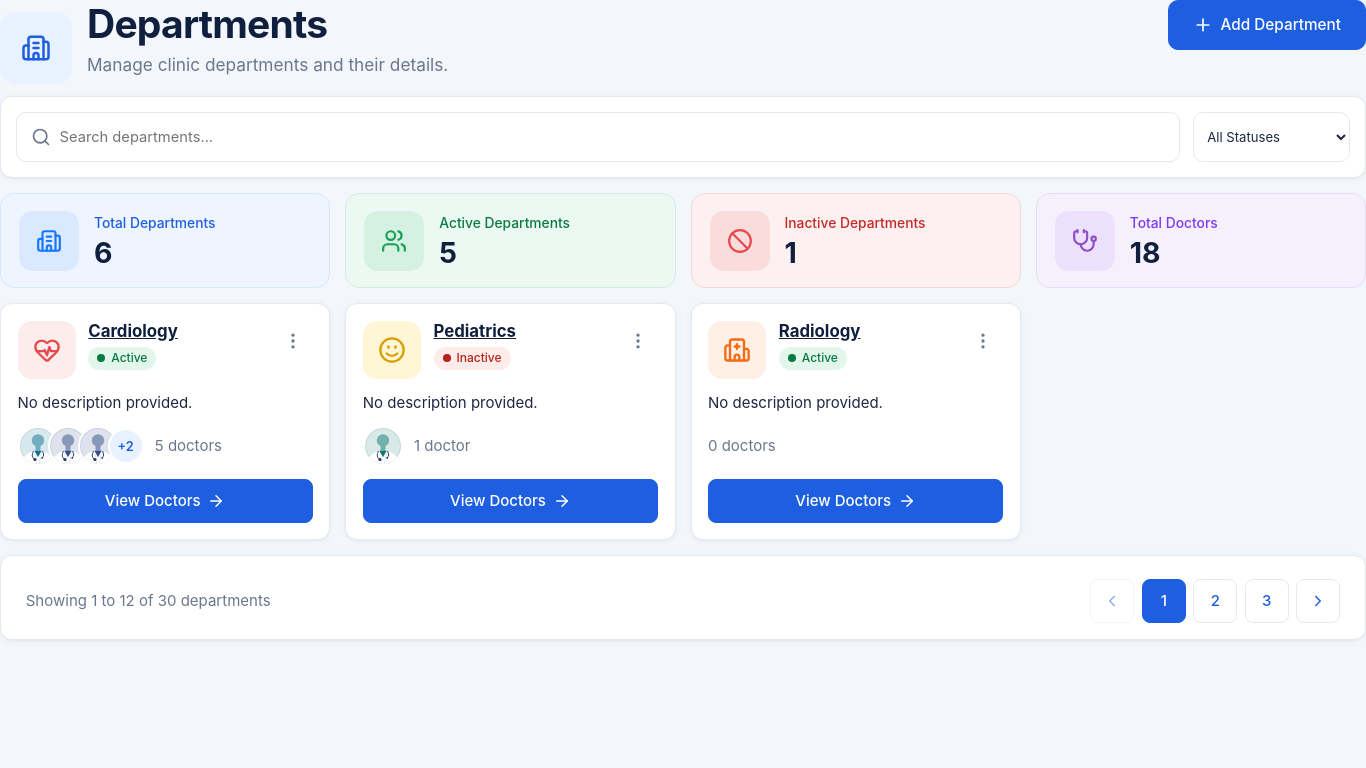
it: Add and edit › validates, then creates with the clinic timezone by default
This screenshot has width=1366, height=768.
Click the button "Add Department".
click(1267, 25)  # box 1168,0 -> 1365,50
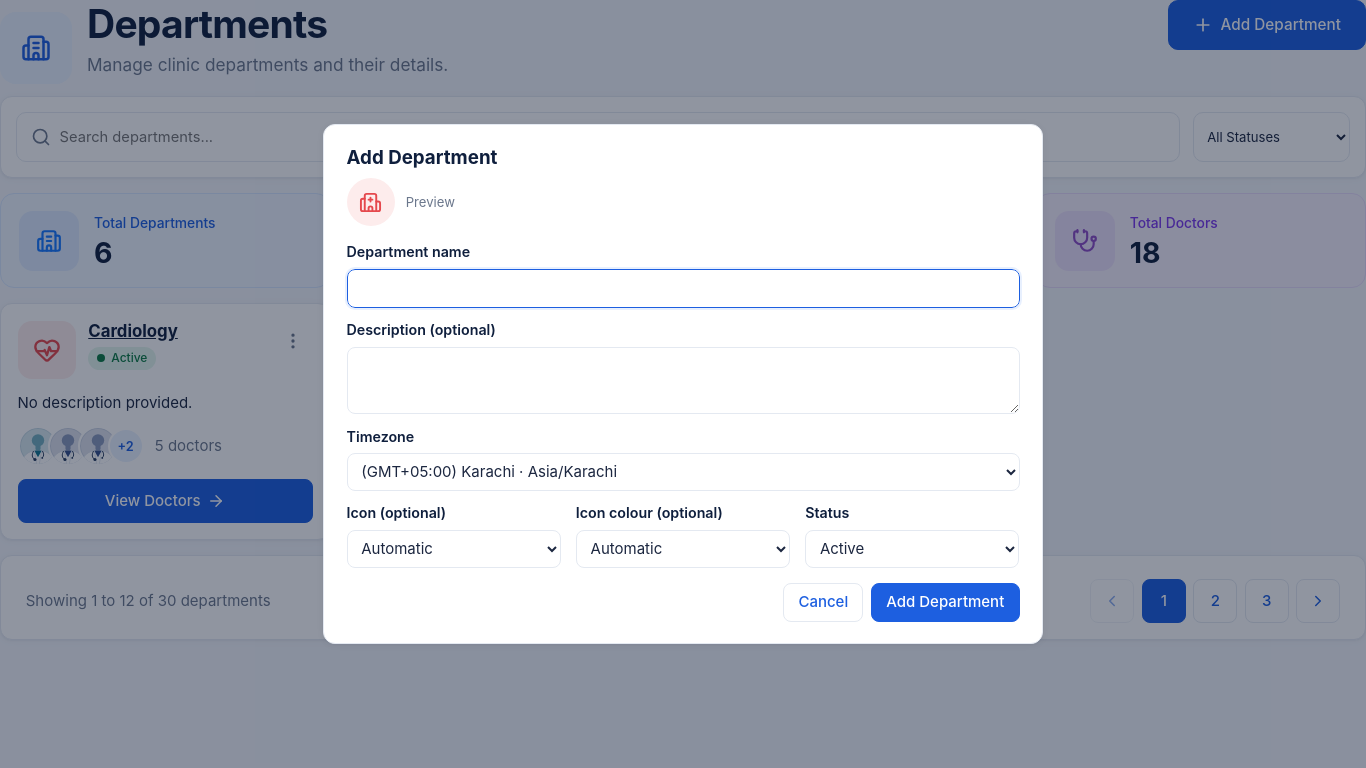
Now the dropdown labelled "Timezone" shows "(GMT+05:00) Karachi · Asia/Karachi", box 346,453 -> 1020,491
Click the button "Add Department".
click(945, 602)  # box 871,583 -> 1020,622
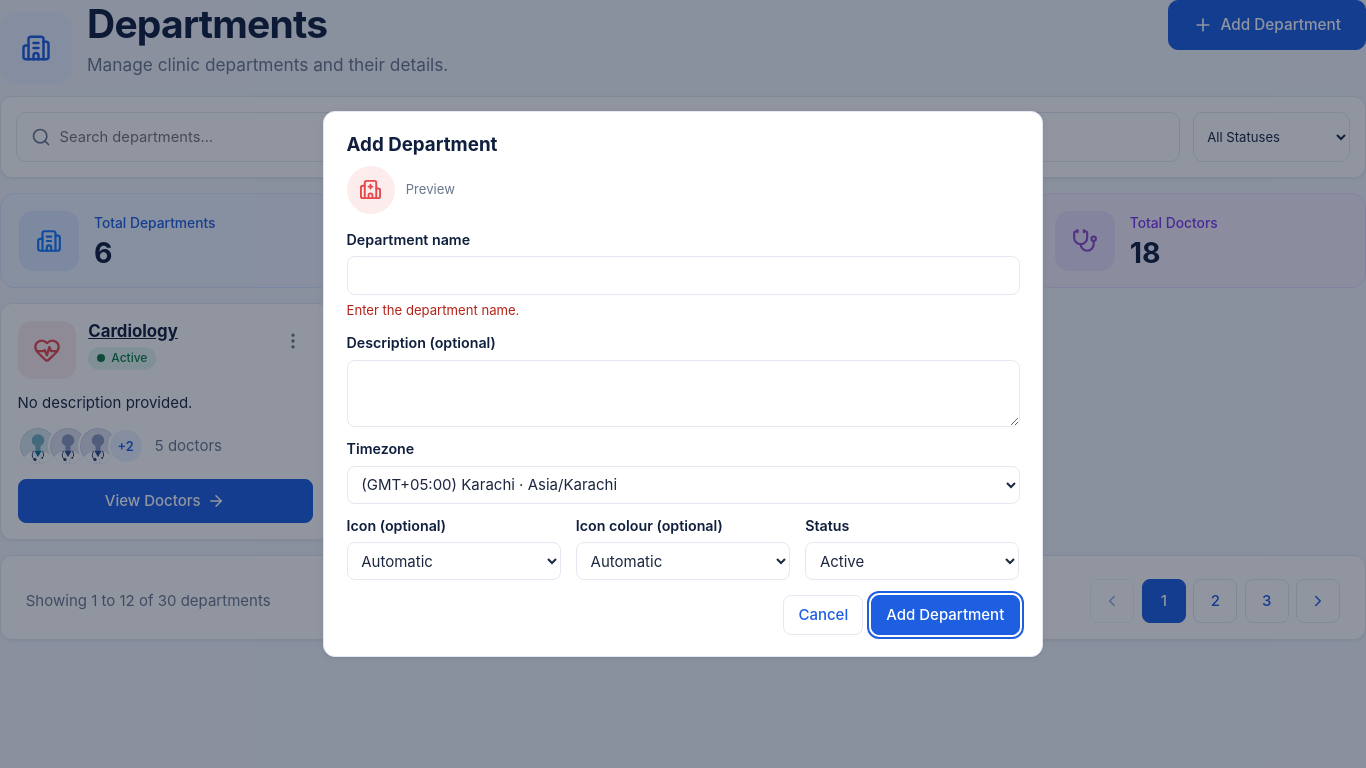
Now the text "Enter the department name." is shown, box 346,302 -> 519,318
Type "  Neurology " into the field labelled "Department name".
click(683, 276); type("  Neurology ")  # box 346,256 -> 1020,295
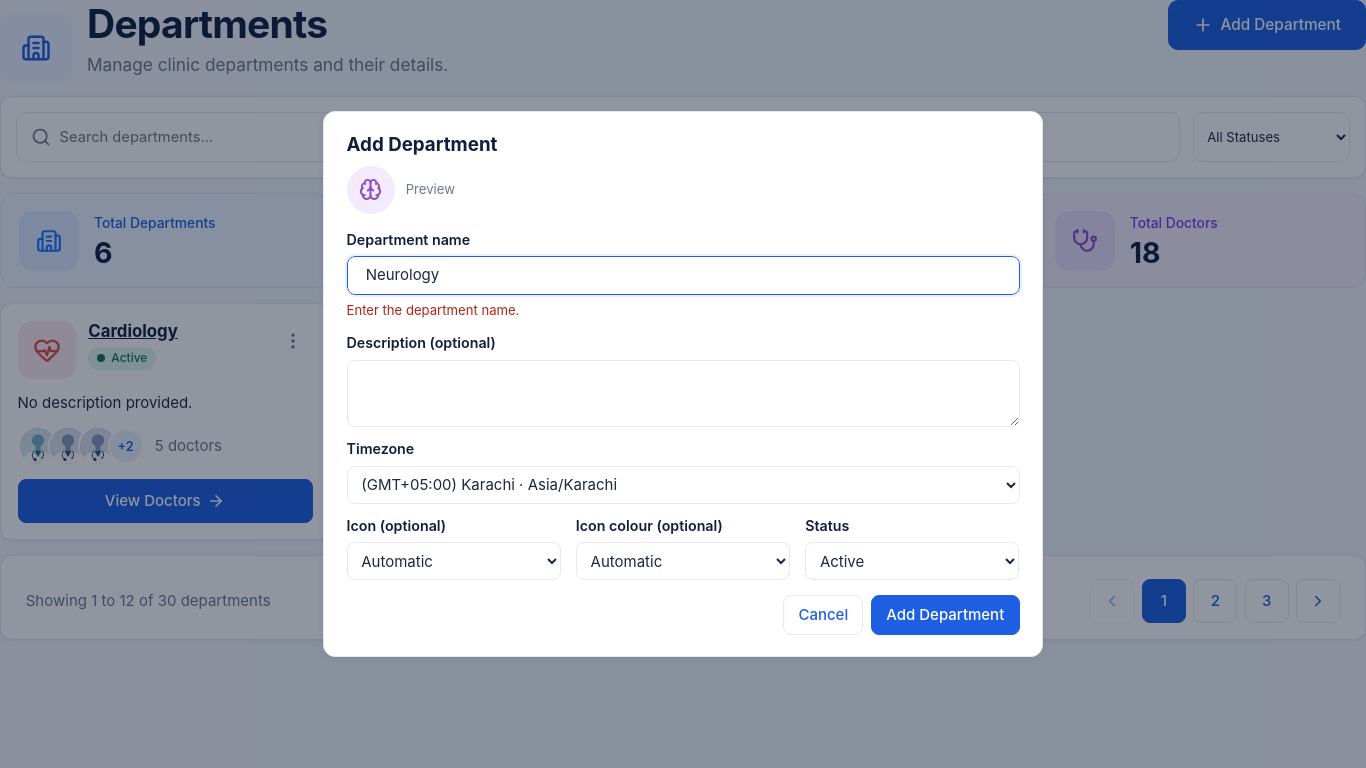
Select "Brain" in the dropdown labelled "Icon (optional)" at (454, 561), box 346,542 -> 561,580
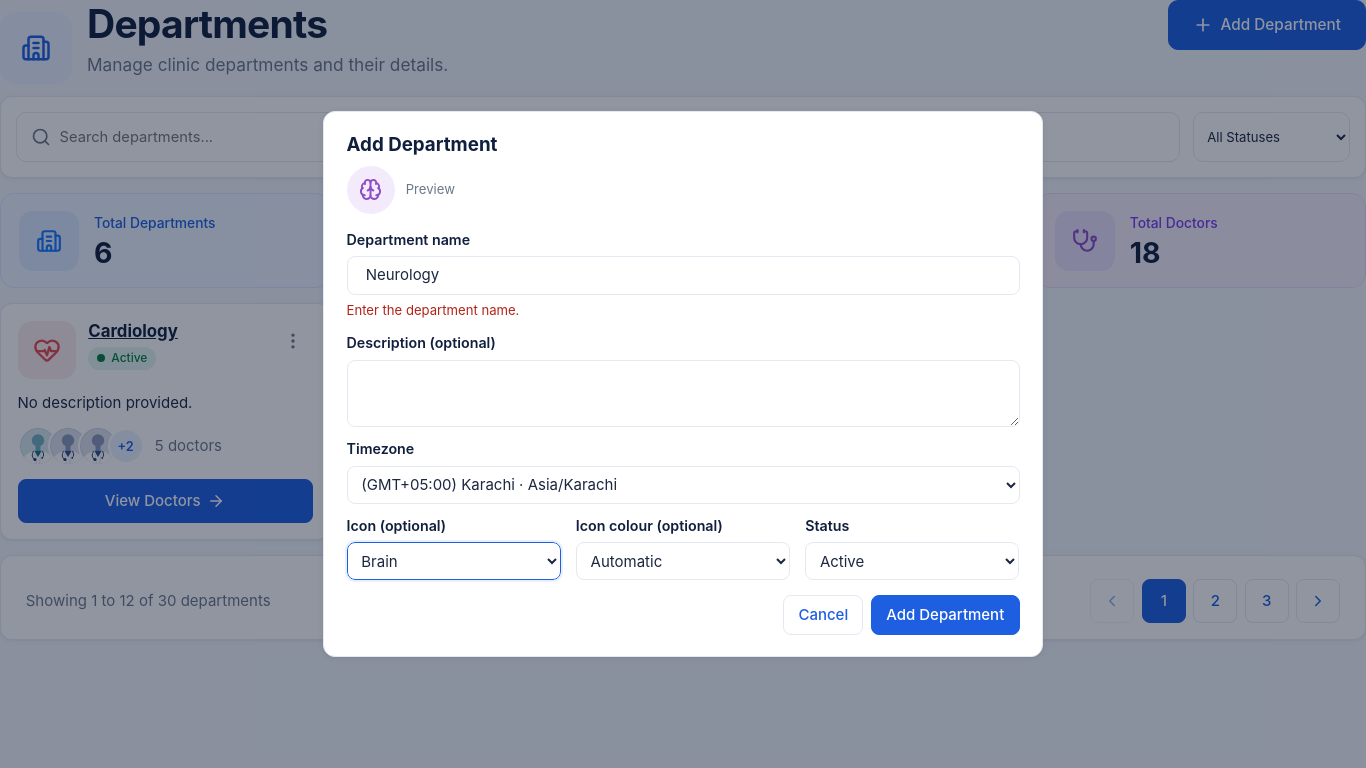
Select "Orange" in the dropdown labelled "Icon colour (optional)" at (683, 561), box 576,542 -> 790,580
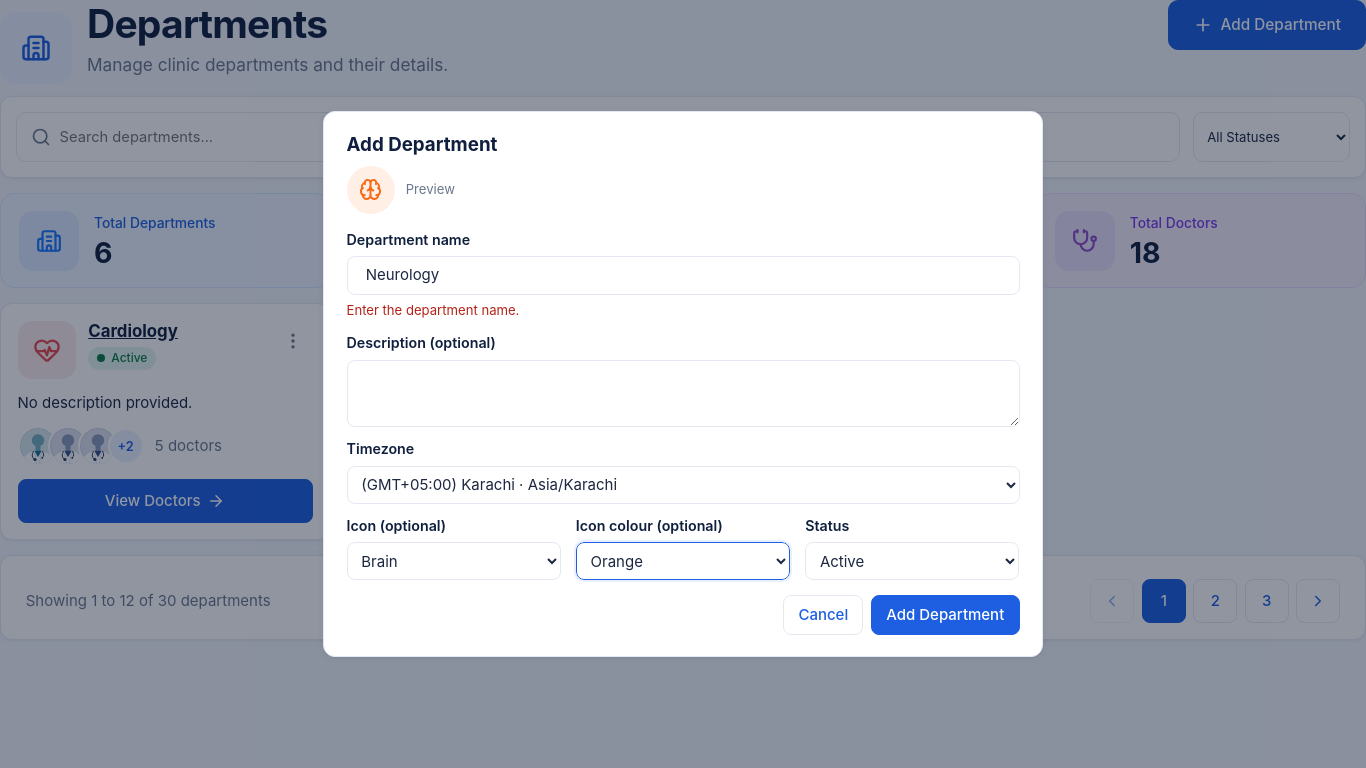
Click the button "Add Department".
click(945, 615)  # box 871,595 -> 1020,635
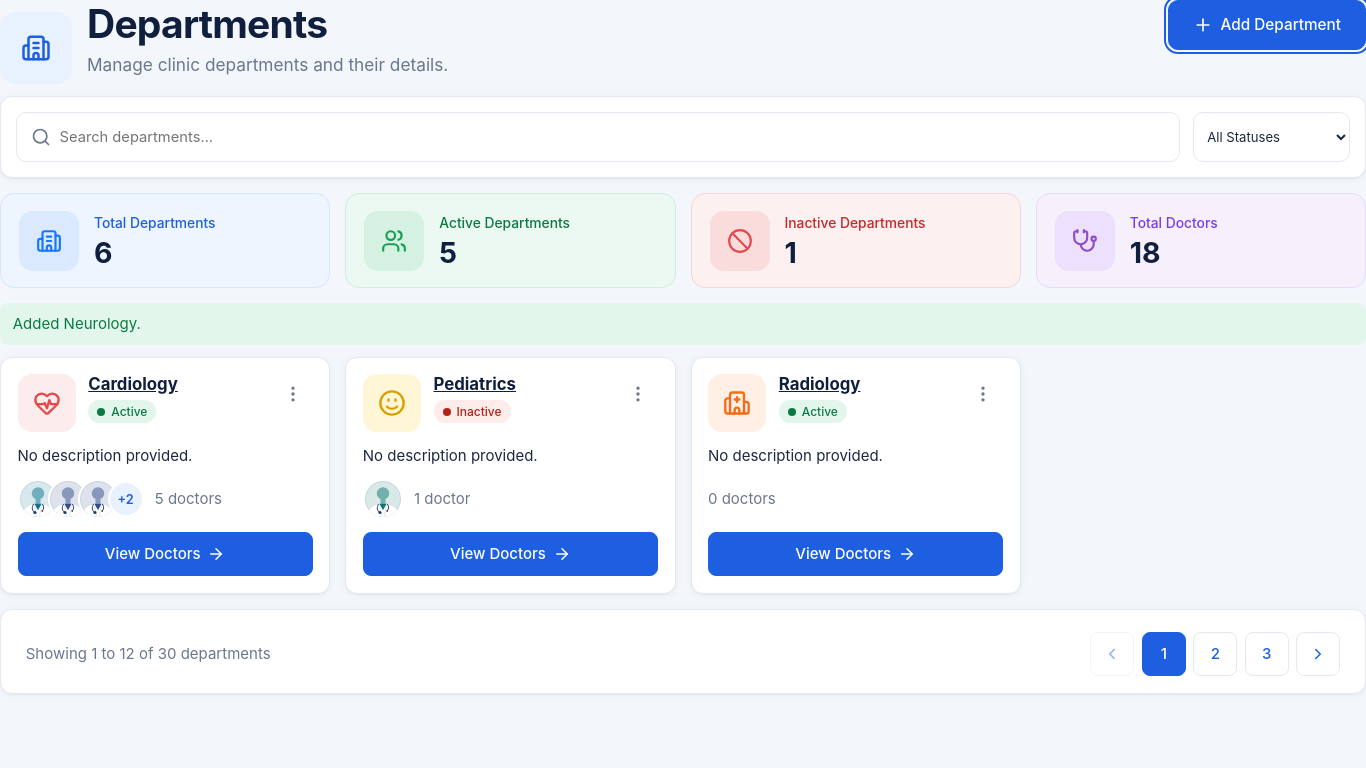
Now the text "Added Neurology." is shown, box 0,303 -> 1365,345
